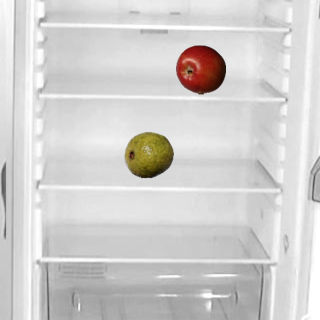Apple Braeburn: (175, 44, 225, 94)
Guava: (123, 129, 173, 179)
